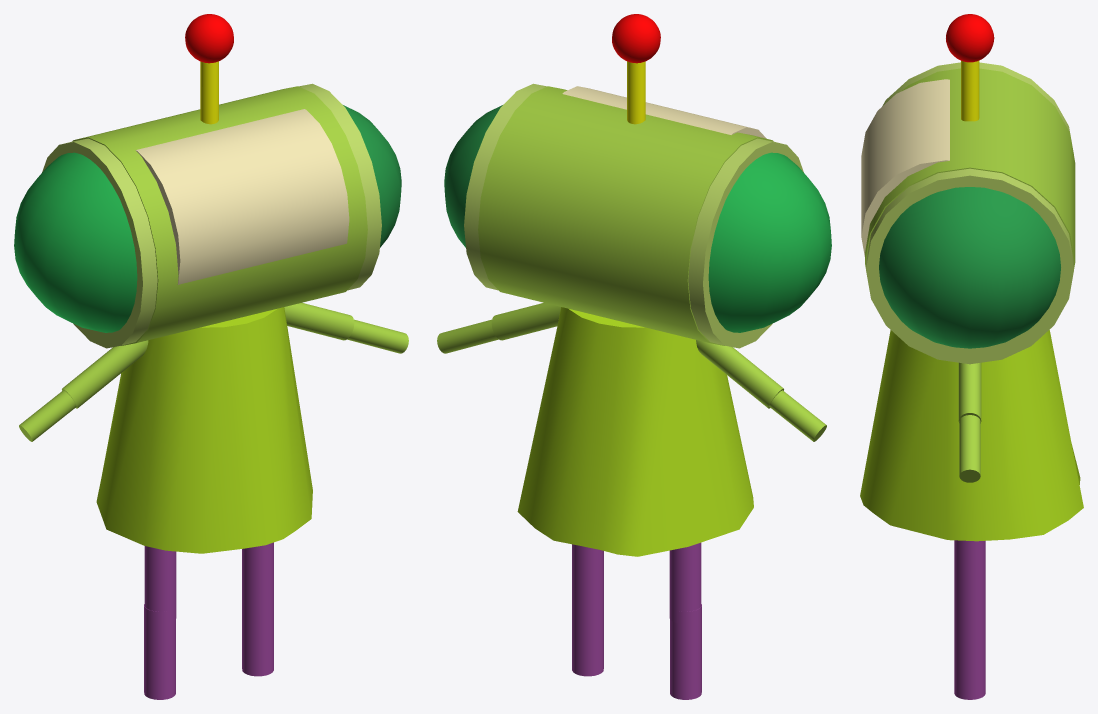
Rendered from Katamari boi.fbx.
3 views of the same model, side by side, from view 1: azimuth 30°, elevation 25°; view 2: azimuth 150°, elevation 25°; view 3: azimuth 270°, elevation 25° (orthographic).
Visible parts, largest first — view 1: pCylinder2, pasted__pCylinder1 (×2), pCylinder1, pSphere1, pasted__pCylinder5 (×2), pasted__pasted__pCylinder5, pasted__pSphere1, pCylinder4, pCylinder5, pSphere3, pasted__pCylinder4, pasted__pasted__pasted__pCylinder4 (+2 smaller); view 2: pCylinder1, pCylinder2, pSphere1, pasted__pCylinder1 (×2), pasted__pCylinder5 (×2), pasted__pasted__pCylinder5, pasted__pSphere1, pCylinder5, pCylinder4, pSphere3, pasted__pCylinder4, pasted__pasted__pasted__pCylinder4 (+2 smaller); view 3: pCylinder2, pasted__pSphere1, pasted__pCylinder1 (×2), pCylinder1, pasted__pCylinder5 (×2), pSphere3, pasted__pasted__pCylinder4, pasted__pCylinder4, pCylinder3.
Part boxes in pixels (x1=…): pCylinder2: x1=96, y1=307, x2=312, y2=553; pasted__pCylinder1 (×2): x1=42, y1=83, x2=381, y2=348; pCylinder1: x1=72, y1=86, x2=367, y2=345; pSphere1: x1=14, y1=152, x2=137, y2=332; pasted__pCylinder5 (×2): x1=242, y1=542, x2=273, y2=676; pasted__pasted__pCylinder5: x1=144, y1=604, x2=175, y2=699; pasted__pSphere1: x1=343, y1=105, x2=401, y2=247; pCylinder4: x1=62, y1=340, x2=148, y2=408; pCylinder5: x1=144, y1=546, x2=176, y2=623; pSphere3: x1=185, y1=14, x2=233, y2=63; pasted__pCylinder4: x1=284, y1=303, x2=354, y2=340; pasted__pasted__pasted__pCylinder4: x1=19, y1=390, x2=76, y2=441; pCylinder1: x1=478, y1=86, x2=773, y2=345; pCylinder2: x1=517, y1=307, x2=753, y2=556; pSphere1: x1=708, y1=152, x2=831, y2=332; pasted__pCylinder1 (×2): x1=464, y1=83, x2=803, y2=348; pasted__pCylinder5 (×2): x1=572, y1=544, x2=603, y2=676; pasted__pasted__pCylinder5: x1=670, y1=604, x2=701, y2=699; pasted__pSphere1: x1=444, y1=105, x2=502, y2=247; pCylinder5: x1=669, y1=542, x2=701, y2=623; pCylinder4: x1=696, y1=340, x2=783, y2=408; pSphere3: x1=612, y1=14, x2=660, y2=63; pasted__pCylinder4: x1=491, y1=303, x2=560, y2=340; pasted__pasted__pasted__pCylinder4: x1=769, y1=390, x2=826, y2=441; pCylinder2: x1=860, y1=330, x2=1083, y2=541; pasted__pSphere1: x1=879, y1=187, x2=1060, y2=348; pasted__pCylinder1 (×2): x1=861, y1=62, x2=1073, y2=364; pCylinder1: x1=865, y1=68, x2=1075, y2=268; pasted__pCylinder5 (×2): x1=954, y1=540, x2=985, y2=699; pSphere3: x1=946, y1=14, x2=994, y2=62; pasted__pasted__pCylinder4: x1=959, y1=415, x2=980, y2=482; pasted__pCylinder4: x1=958, y1=362, x2=981, y2=423; pCylinder3: x1=961, y1=60, x2=979, y2=121.
Bounding box in the file's own units: 2.09 × 3.45 × 1.07.
